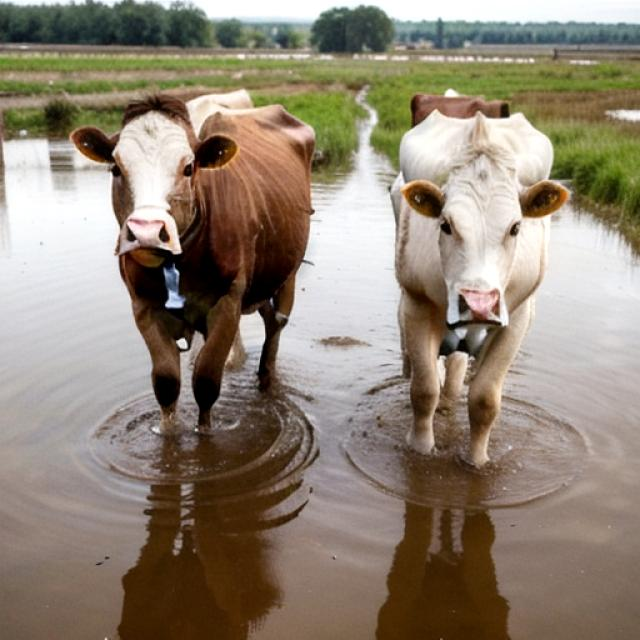cow: (58, 92, 330, 444), (378, 104, 573, 486)
